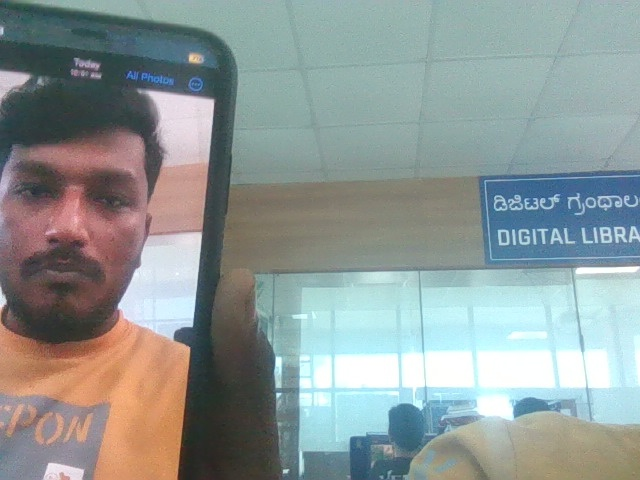fake: (0, 48, 206, 340)
